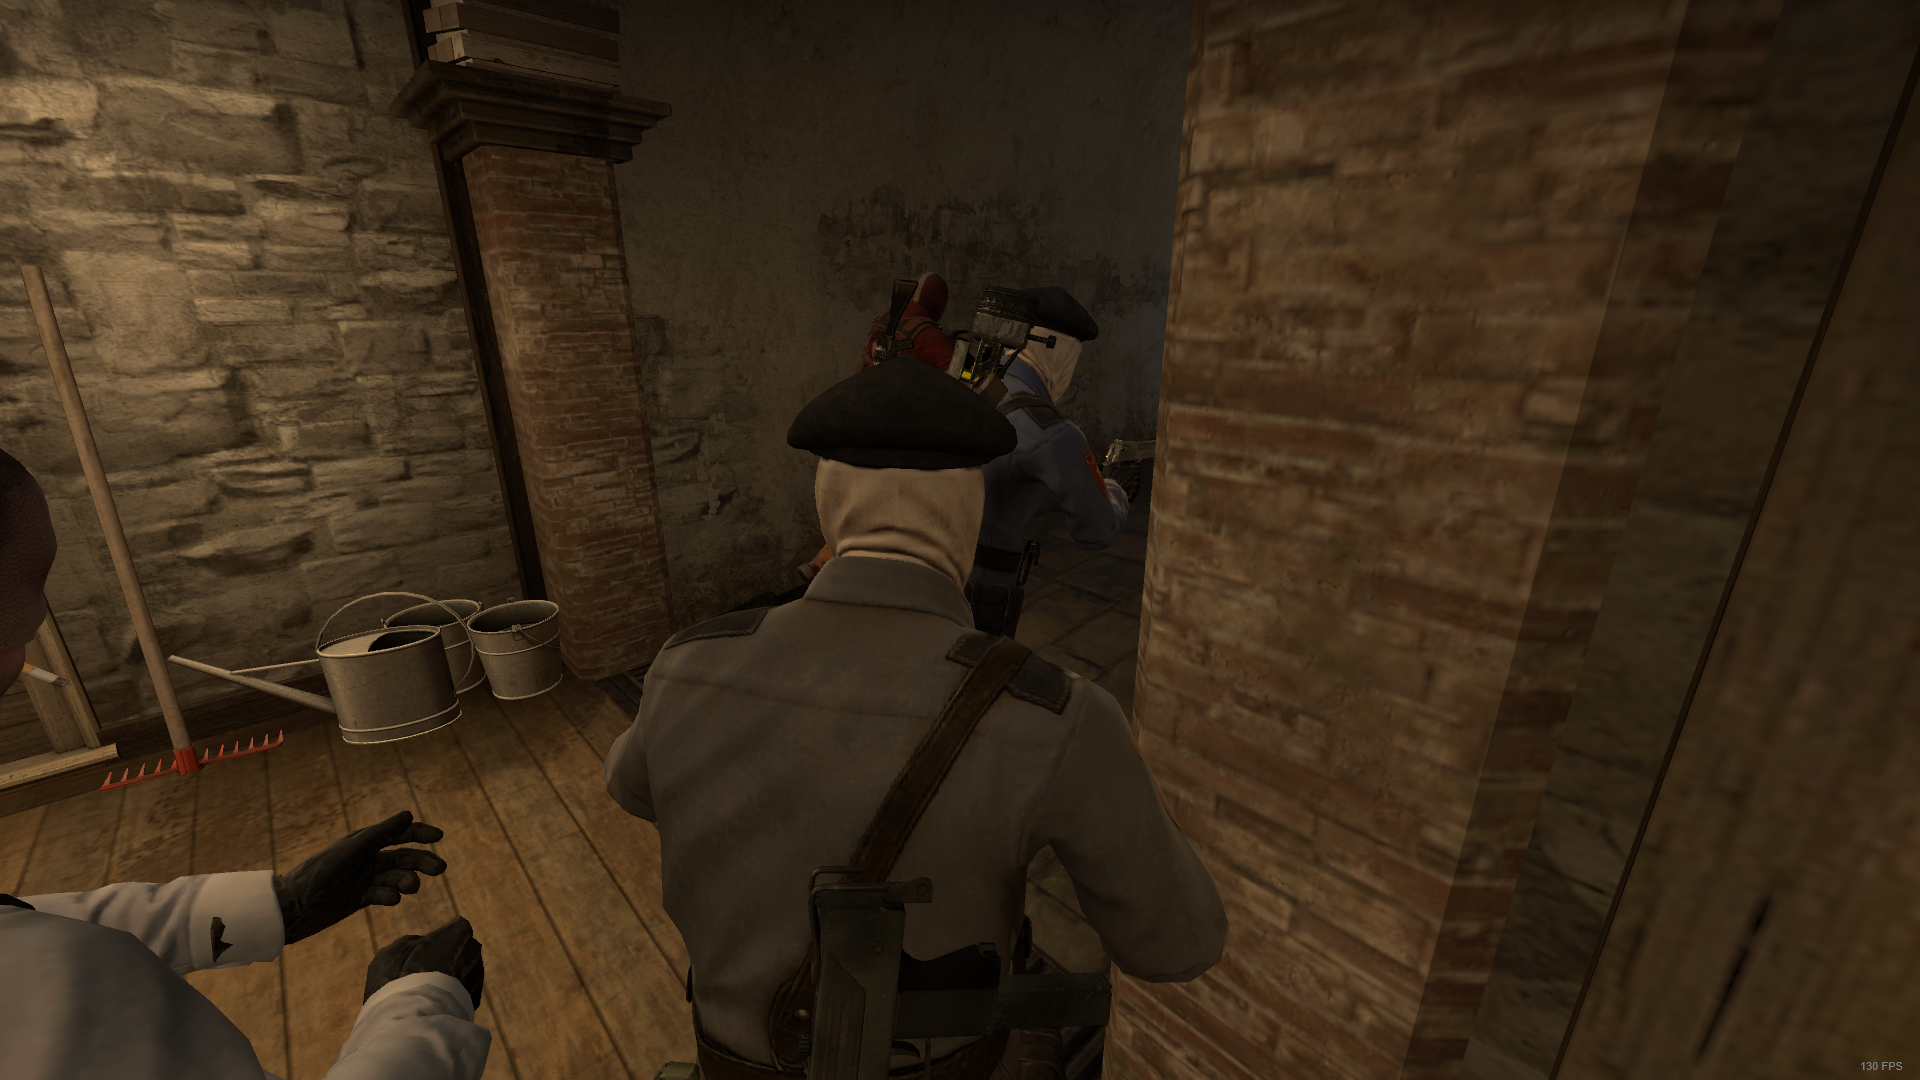t: (578, 367, 1247, 1073)
